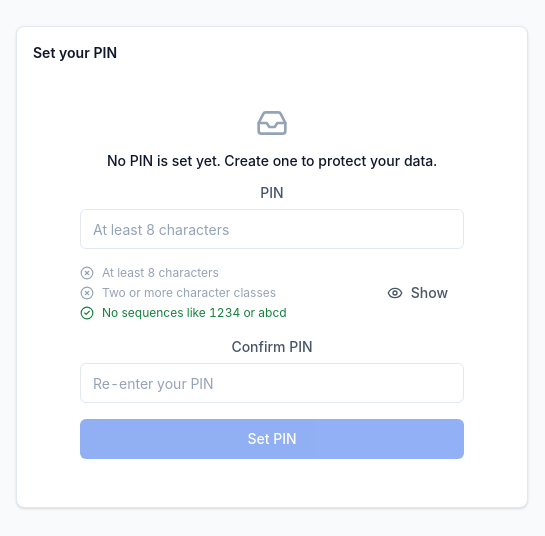
Test case: first-run PIN setup (F-004) › renders the empty state, enforces the policy and shows live hints
This screenshot has width=545, height=536.
Expected: the heading "Set your PIN" is shown, [33,43,117,63]
Expected: the text "No PIN is set yet. Create one to protect your data." is shown, [107,151,437,171]
Type "1234" into the password field labelled "PIN".
click(272, 229); type("1234")  # box [80,209,464,249]
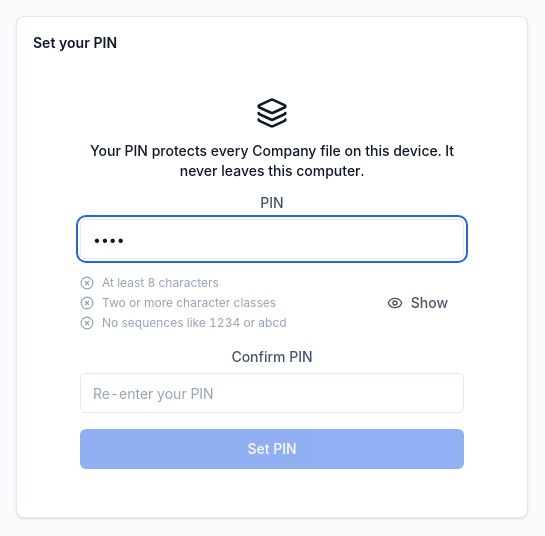
Expected: the button "Set PIN" is disabled, [80,429,464,469]
Clear the password field labelled "PIN" at (272, 239), box [80,219,464,259]
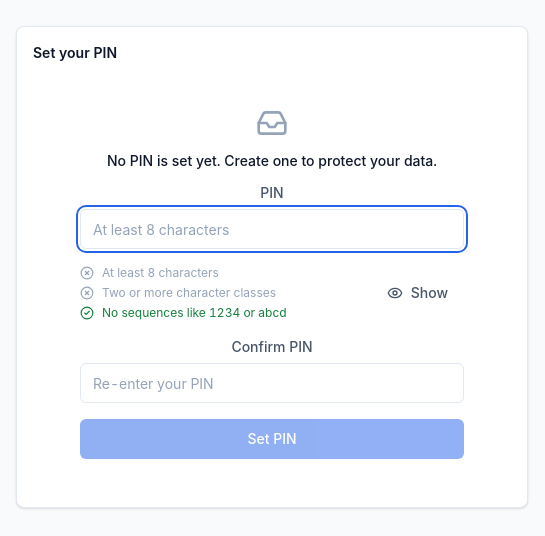
Type "Meridian#2026" into the password field labelled "PIN".
click(272, 229); type("Meridian#2026")  # box [80,209,464,249]
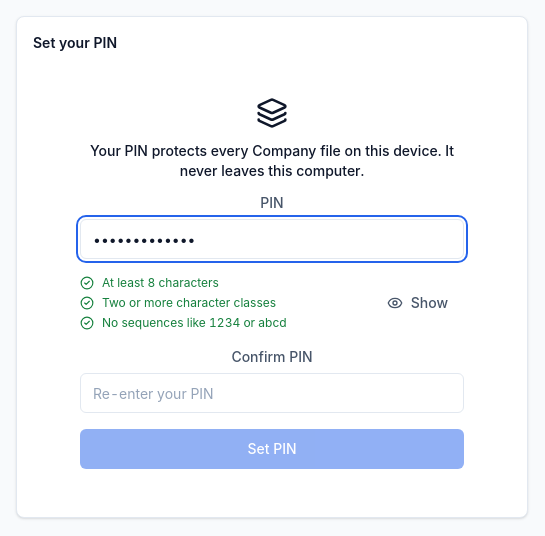
Expected: the button "Set PIN" is disabled, [80,429,464,469]
Type "Meridian#2026" into the password field labelled "Confirm PIN".
click(272, 393); type("Meridian#2026")  # box [80,373,464,413]
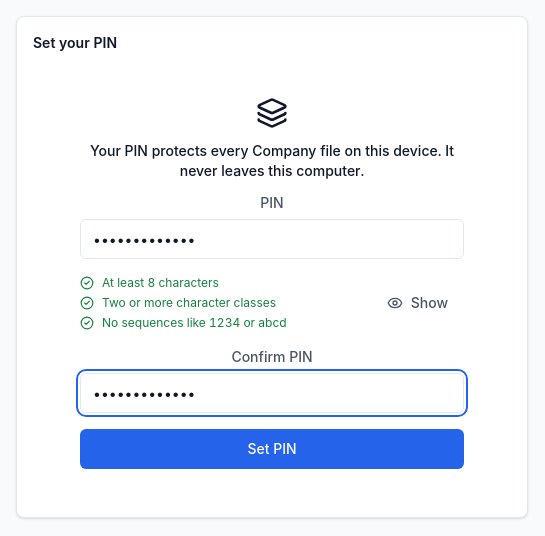
Now the button "Set PIN" is enabled, box [80,429,464,469]
